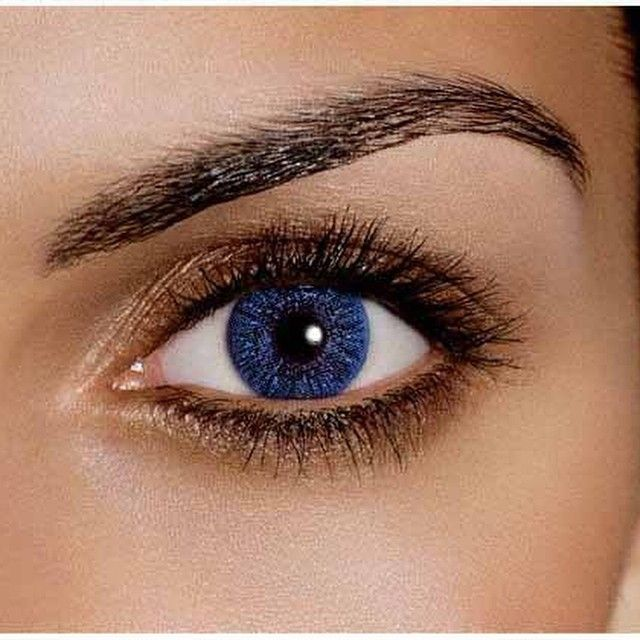iris: (225, 275, 370, 400)
pupil: (267, 307, 329, 361)
